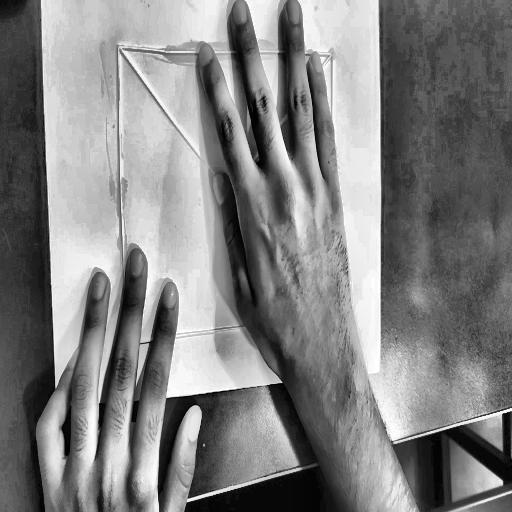bottom_left: (56, 401, 60, 408)
bottom_right: (377, 365, 382, 375)
envelop: (110, 31, 347, 354)
